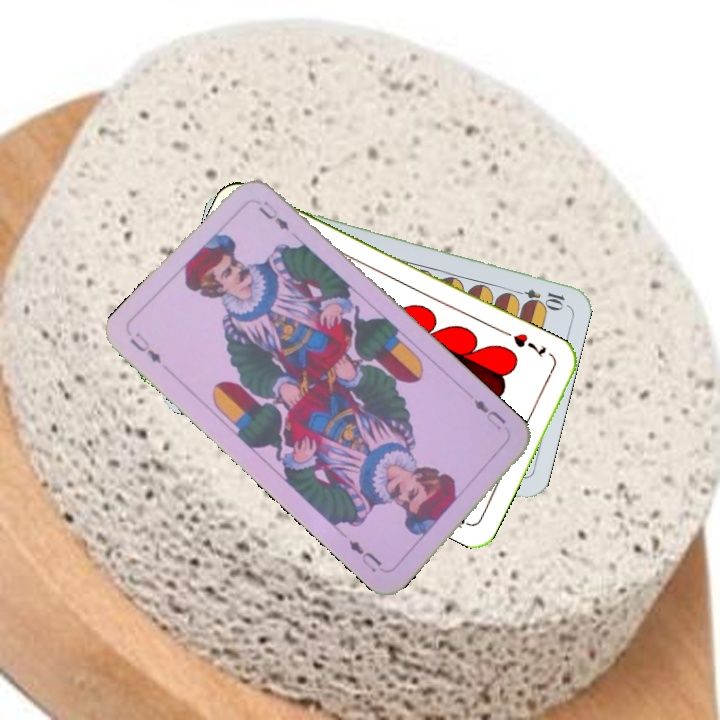E10: (508, 284, 567, 310)
EU: (469, 394, 509, 433), (126, 328, 164, 366)
H7: (508, 329, 549, 361)
